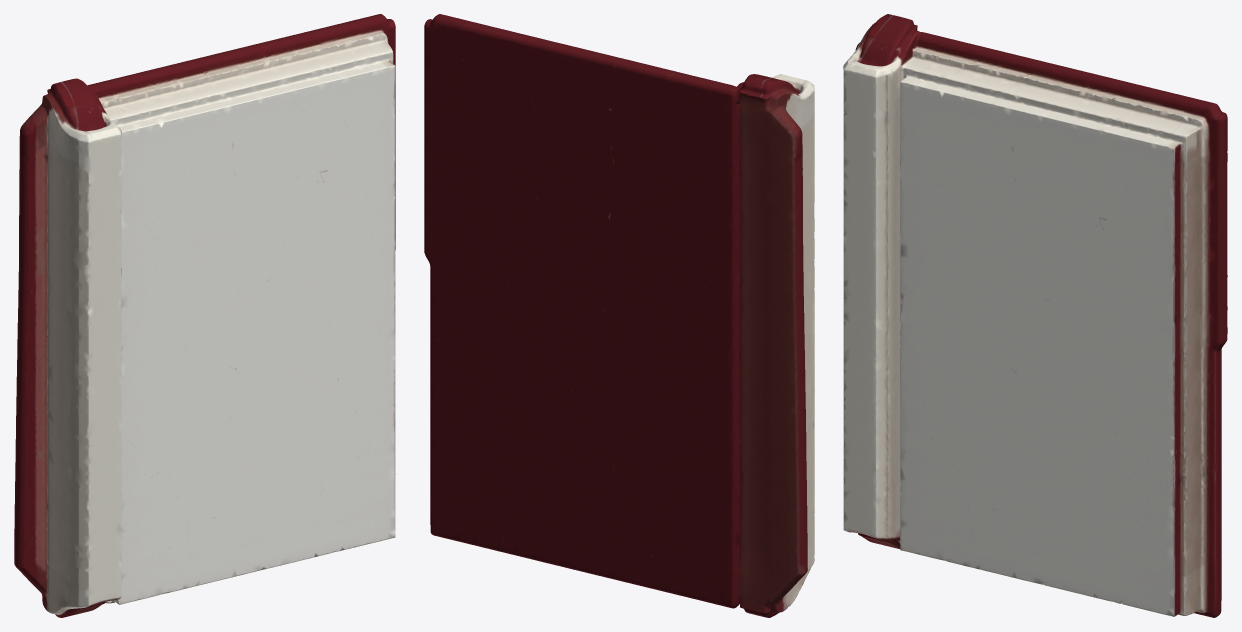
File: TaxCodeBook.fbx
3 renders of one model, left to right at view 1: azimuth 30°, elevation 25°; view 2: azimuth 150°, elevation 25°; view 3: azimuth 330°, elevation 25°, orthographic.
Parts seen in each view (by area): view 1: mesh_node; view 2: mesh_node; view 3: mesh_node.
Part boxes in pixels (x1,y1,x2,y2): mesh_node: (14, 14, 395, 617); mesh_node: (424, 14, 814, 617); mesh_node: (843, 14, 1227, 617).
Bounding box in the file's own units: 141 × 29.47 × 190.
1 material, 1 textured.
